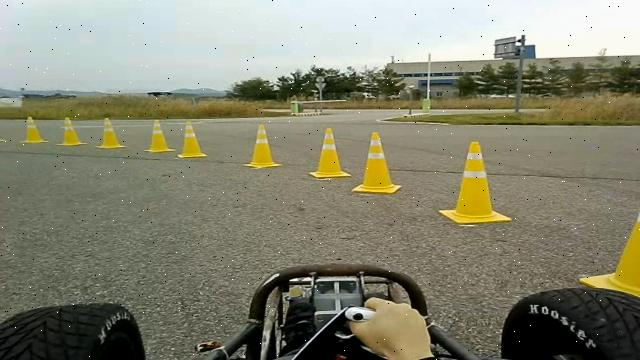yellow cone: (578, 193, 640, 301), (437, 141, 512, 224), (351, 132, 402, 194), (309, 127, 351, 179), (242, 124, 282, 168), (177, 120, 207, 158), (143, 118, 175, 152), (95, 117, 126, 148), (56, 116, 87, 146), (19, 116, 49, 143), (0, 118, 7, 142)
